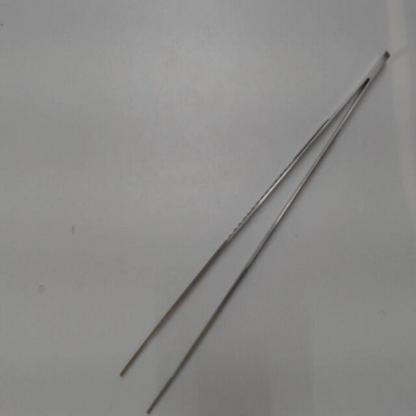DeBakey Dissector: (116, 35, 398, 413)
